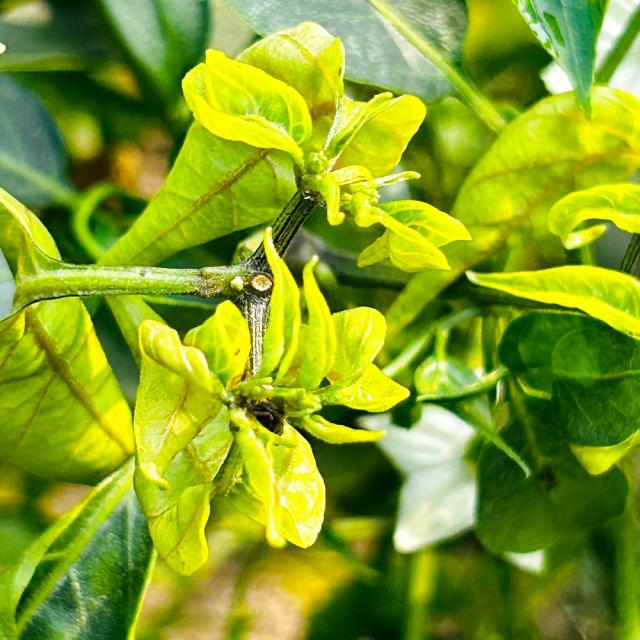Chilli_Leaf_Curl: (1, 1, 638, 637), (130, 226, 410, 576), (177, 20, 472, 275), (0, 186, 136, 485), (464, 263, 639, 339)
